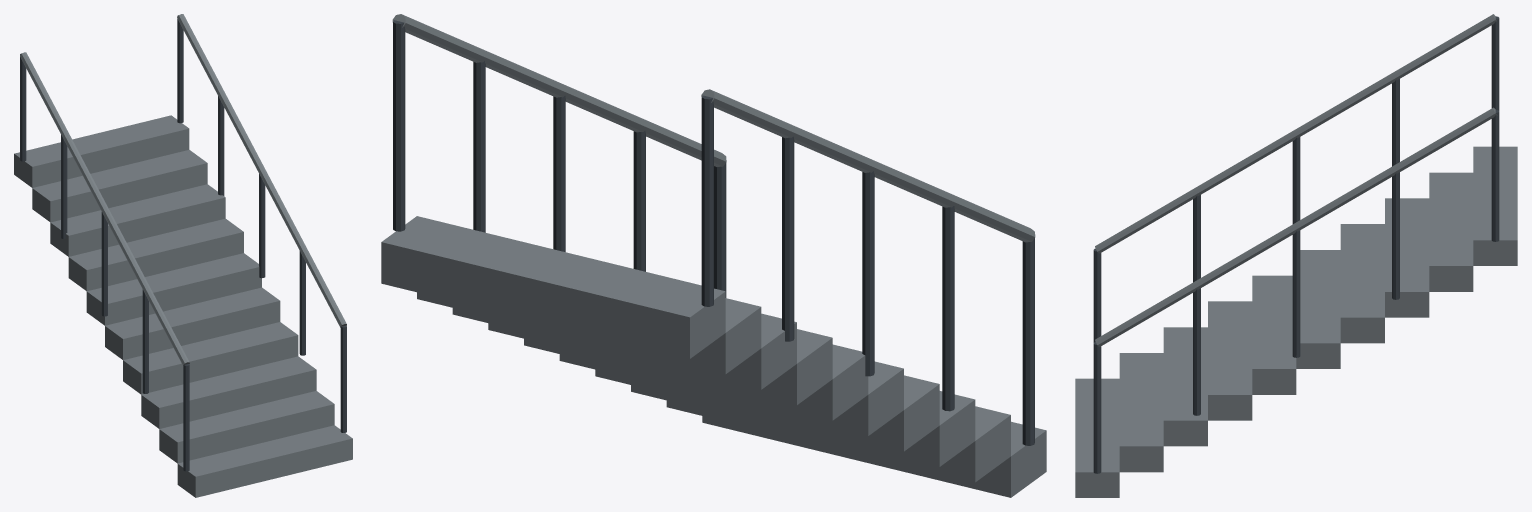
File: StairFlight.fbx
3 views of the same model, side by side, from view 1: azimuth 30°, elevation 25°; view 2: azimuth 150°, elevation 25°; view 3: azimuth 270°, elevation 25° (orthographic). The views are drawn at different scales.
Parts seen in each view (by area): view 1: StairFlight; view 2: StairFlight; view 3: StairFlight.
Boxes of the visible parts, <box> form: StairFlight: <box>14,14,352,497</box>; StairFlight: <box>381,14,1046,497</box>; StairFlight: <box>1075,14,1517,497</box>.
Size of the model in its own units: 146 by 273 by 280.
1 material, 1 textured.
